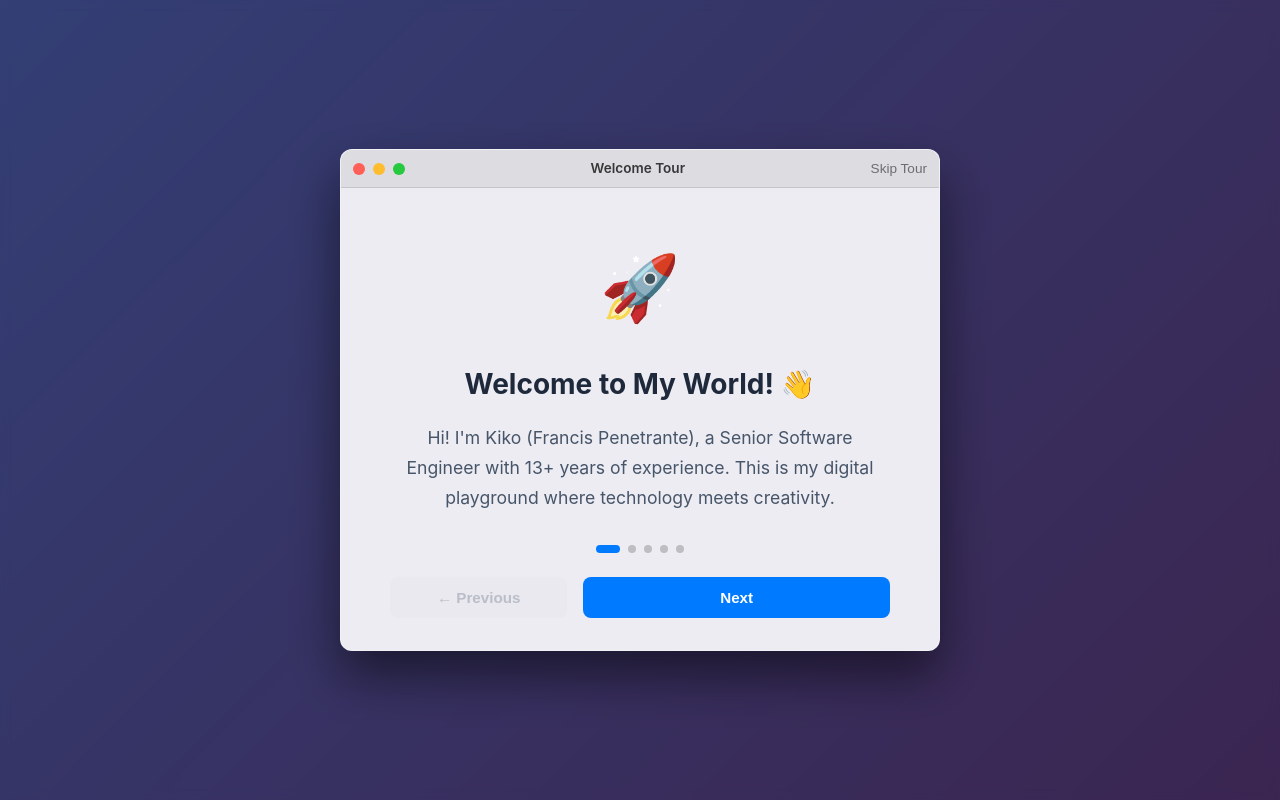
it: WelcomeTour › navigates to the next slide when Next is clicked
Click the button "Next". click: point(737, 598)
box: top-left (583, 577), bottom-right (890, 618)
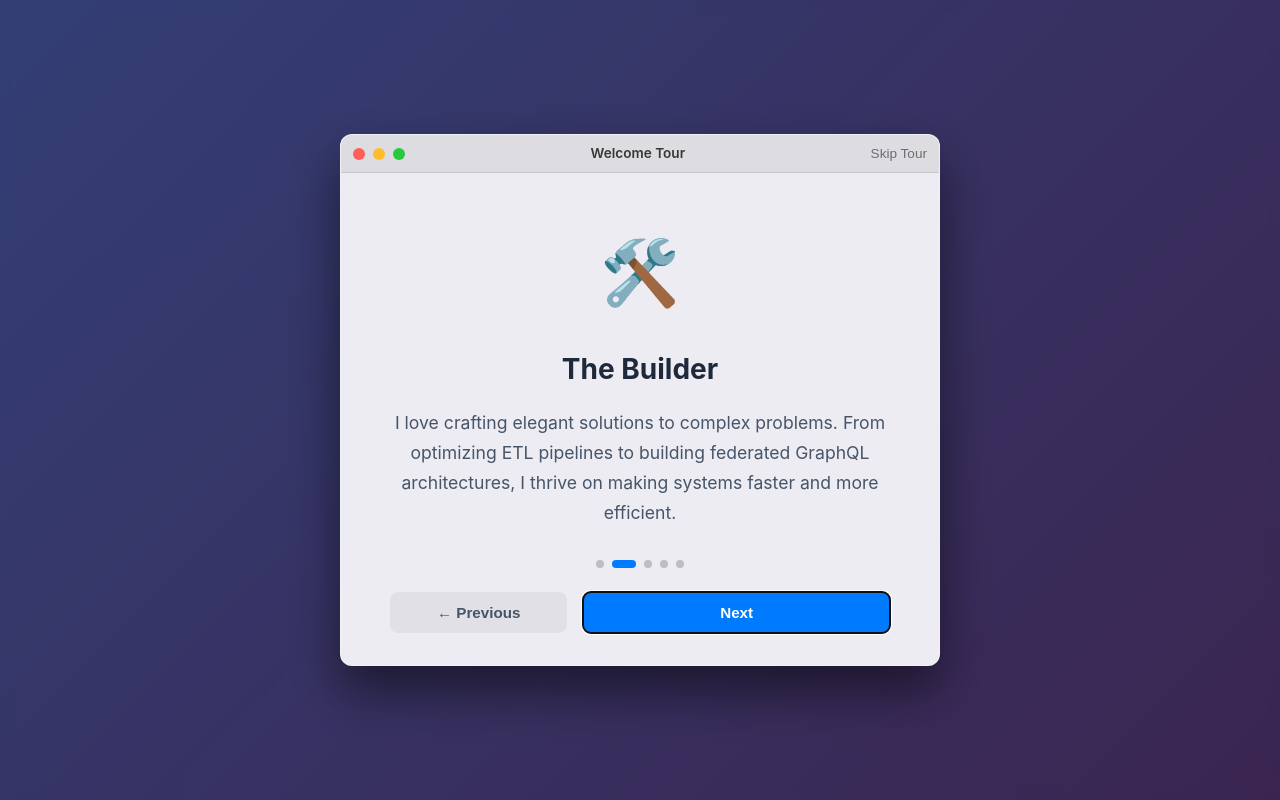
Now the heading "The Builder" is shown, box top-left (562, 348), bottom-right (718, 392)
